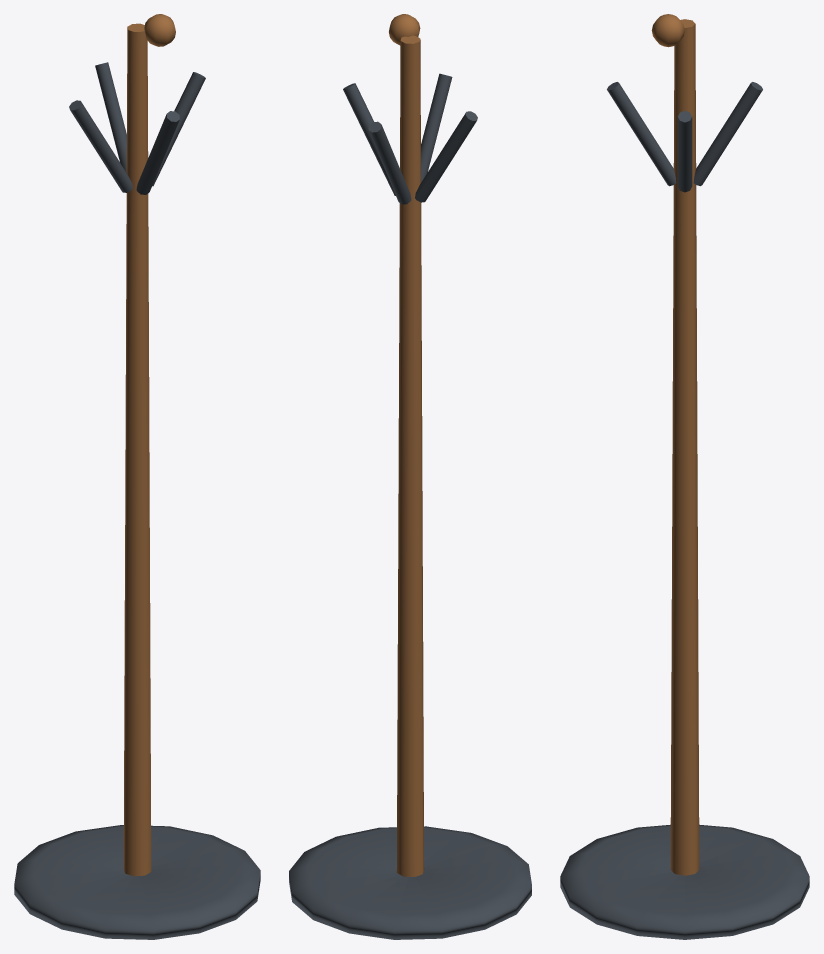
The model's file is coatrail-lite.glb.
3 views of the same model, side by side, from view 1: azimuth 30°, elevation 25°; view 2: azimuth 150°, elevation 25°; view 3: azimuth 270°, elevation 25° (orthographic).
Visible parts, largest first — view 1: material-1-base, material-0-body, material-2-metal; view 2: material-1-base, material-0-body, material-2-metal; view 3: material-1-base, material-0-body, material-2-metal.
Boxes of the visible parts, <box> form: material-1-base: <box>14,825,260,939</box>; material-0-body: <box>123,14,175,876</box>; material-2-metal: <box>69,62,205,194</box>; material-1-base: <box>289,826,531,939</box>; material-0-body: <box>389,14,424,876</box>; material-2-metal: <box>343,73,477,204</box>; material-1-base: <box>560,824,809,939</box>; material-0-body: <box>651,14,699,875</box>; material-2-metal: <box>607,82,762,192</box>.
Size of the model in its own units: 0.45 by 1.75 by 0.45.
